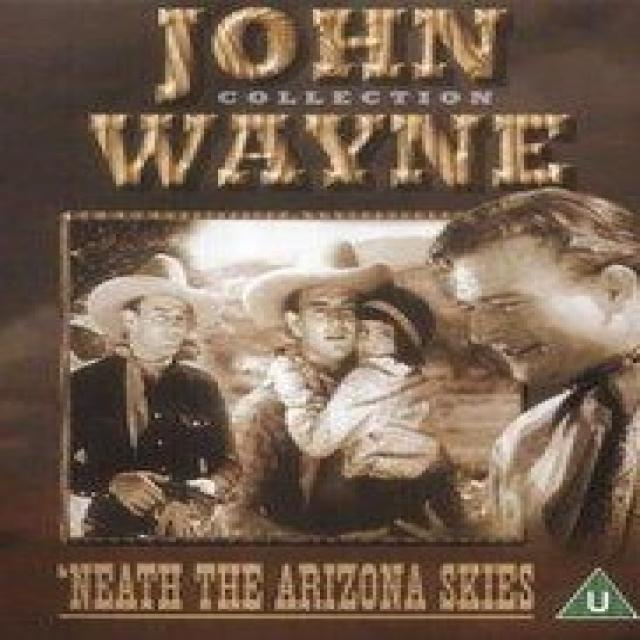movie-judul: (50, 557, 547, 620)
picture: (60, 188, 640, 544)
